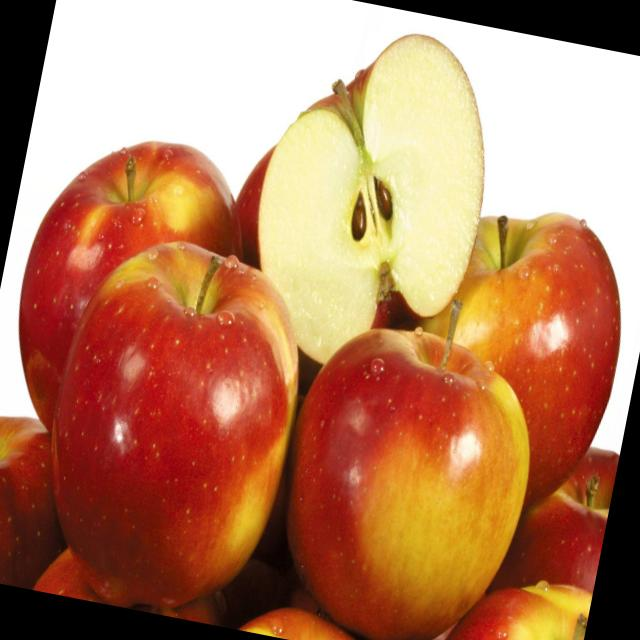apple: (19, 216, 326, 618), (0, 118, 277, 486), (251, 316, 551, 640), (375, 185, 640, 544)
